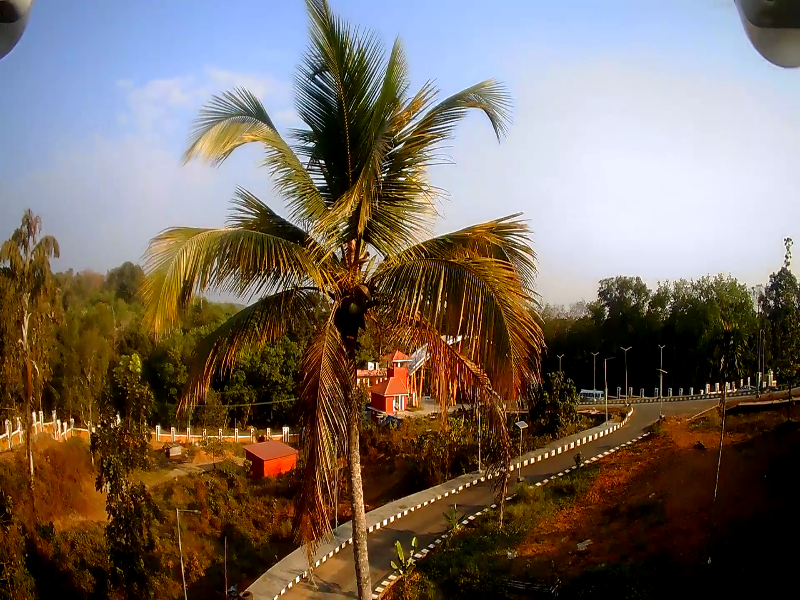coconut: (345, 296, 362, 314)
